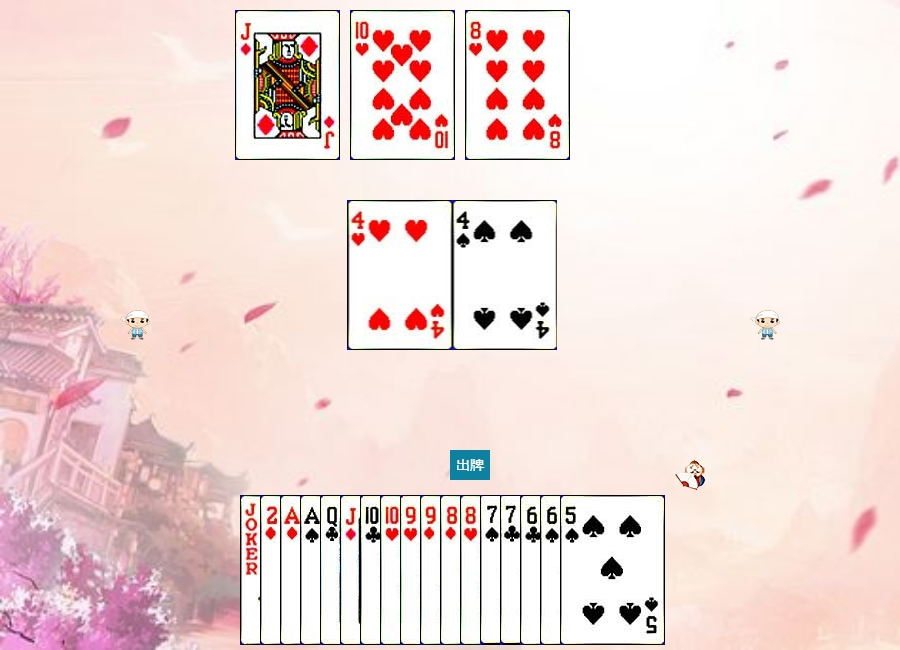10~2: (360, 495, 465, 645)
10~3: (350, 10, 455, 160), (380, 495, 485, 645)
11~1: (235, 10, 340, 160), (340, 495, 445, 645)
12~2: (320, 495, 425, 645)
14~1: (280, 495, 385, 645)
14~4: (300, 495, 405, 645)
15~1: (260, 495, 365, 645)
18~4: (240, 495, 345, 645)
4~3: (348, 200, 453, 350)
4~4: (453, 200, 558, 350)
5~4: (560, 495, 665, 645)
6~2: (520, 495, 625, 645)
6~4: (540, 495, 645, 645)
7~2: (500, 495, 605, 645)
7~4: (480, 495, 585, 645)
8~1: (440, 495, 545, 645)
8~3: (465, 10, 570, 160), (460, 495, 565, 645)
9~1: (420, 495, 525, 645)
9~3: (400, 495, 505, 645)
